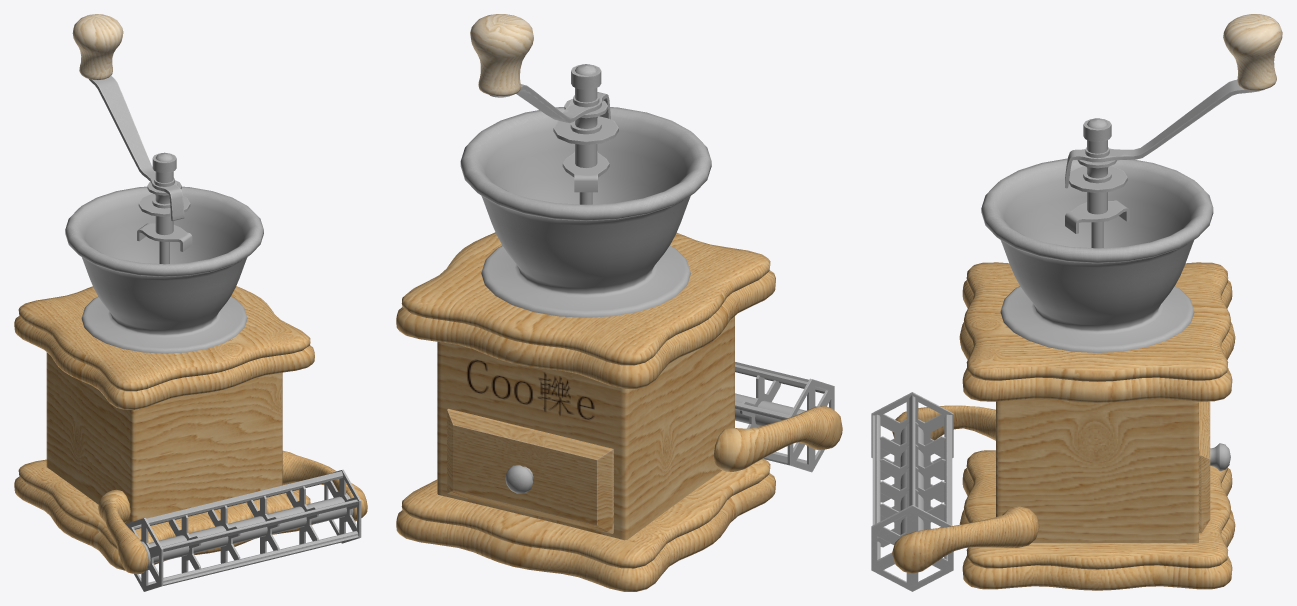
The model's file is coffeemill0310.fbx.
3 renders of one model, left to right at view 1: azimuth 30°, elevation 25°; view 2: azimuth 150°, elevation 25°; view 3: azimuth 270°, elevation 25°, orthographic. The views are drawn at different scales.
Parts seen in each view (by area): view 1: body, Tang, handle, arm; view 2: body, drawer, handle, arm, Tang; view 3: body, Tang, handle, arm, drawer.
Part boxes in pixels (bbox=[...]): body: bbox=[14, 186, 314, 570]; Tang: bbox=[126, 469, 361, 591]; handle: bbox=[72, 14, 192, 264]; arm: bbox=[98, 450, 367, 574]; body: bbox=[396, 107, 775, 591]; drawer: bbox=[447, 408, 613, 533]; handle: bbox=[470, 14, 618, 204]; arm: bbox=[713, 393, 842, 471]; Tang: bbox=[735, 362, 834, 472]; body: bbox=[959, 158, 1235, 590]; Tang: bbox=[871, 392, 953, 591]; handle: bbox=[1065, 14, 1282, 248]; arm: bbox=[892, 405, 1039, 573]; drawer: bbox=[1199, 401, 1230, 533].
Size of the model in its own units: 122 by 215 by 156.
1 material, 1 textured.
